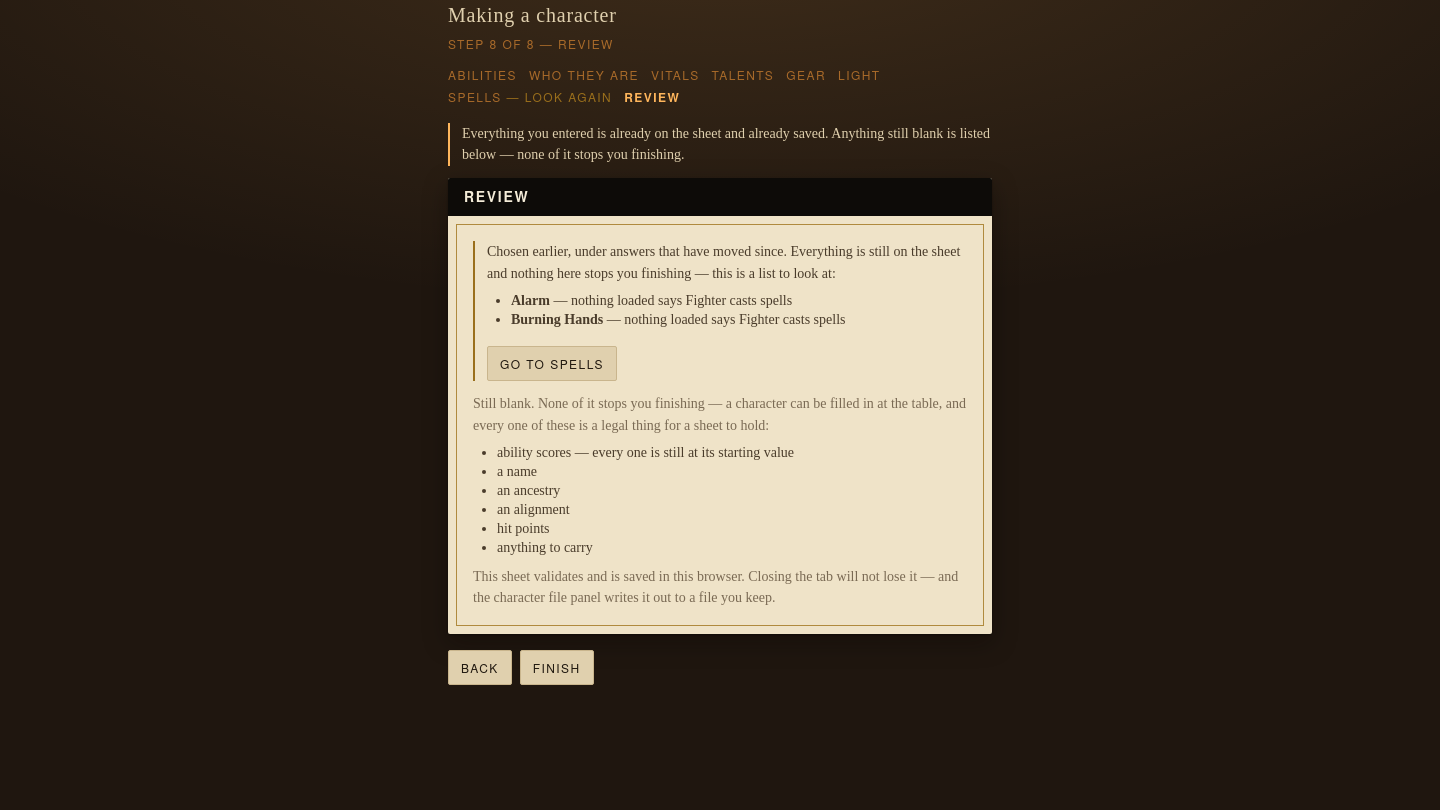
Test case: what the change left behind › lists every one on the review, with a way back to the step that answers it
Click the button "Go to Spells" at (552, 364), box 487,346 -> 617,381
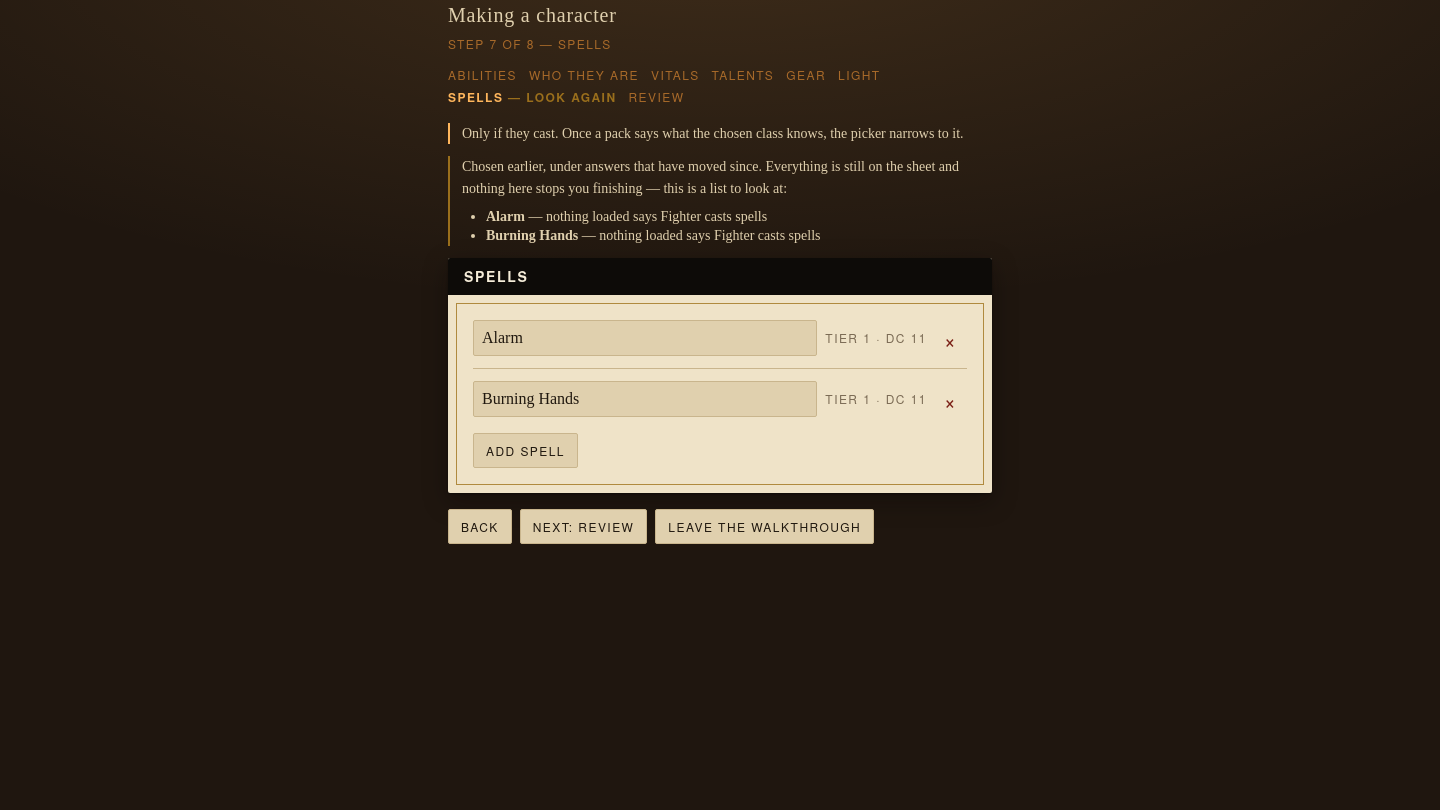
Result: the text with class "walkthrough__position" shows "Step 7 of 8" at 448,35 -> 612,52
